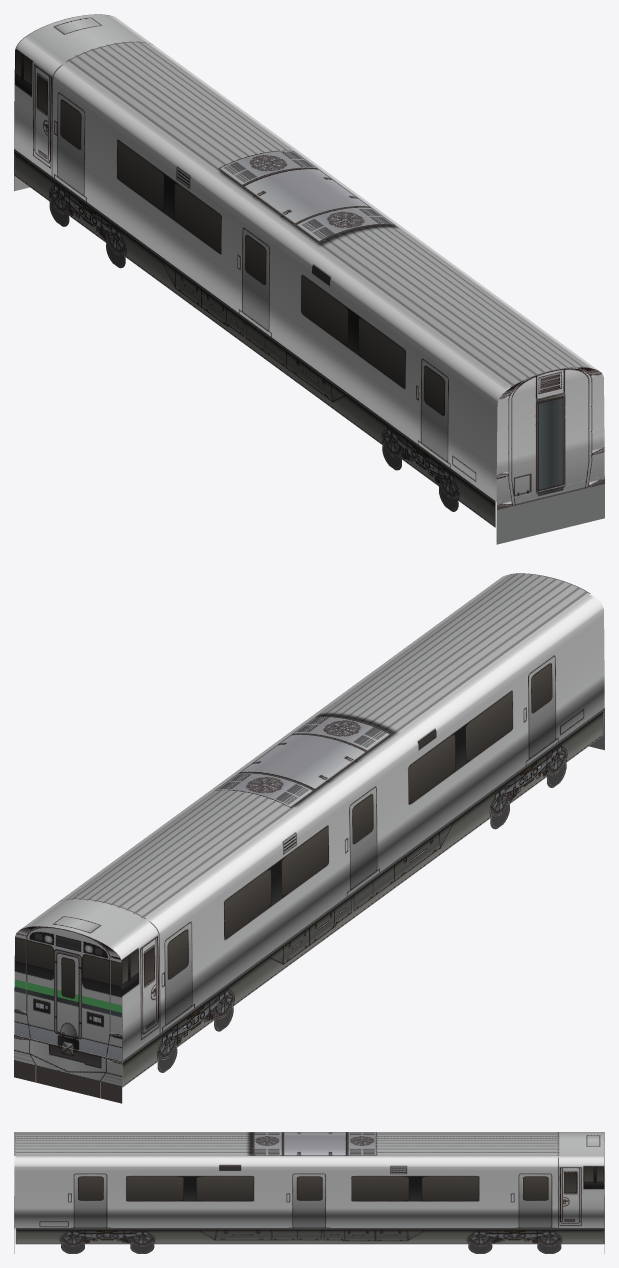
Rendered from car3.glb.
3 views of the same model, one above another, from view 1: azimuth 30°, elevation 25°; view 2: azimuth 150°, elevation 25°; view 3: azimuth 270°, elevation 25° (orthographic). The views are drawn at different scales.
Visible parts, largest first — view 1: jr-hokkaido-735-car3; view 2: jr-hokkaido-735-car3; view 3: jr-hokkaido-735-car3.
Part boxes in pixels (<box>): jr-hokkaido-735-car3: <box>14,14,604,544</box>; jr-hokkaido-735-car3: <box>14,573,604,1103</box>; jr-hokkaido-735-car3: <box>14,1132,604,1253</box>.
Size of the model in its own units: 2.8 by 3.96 by 21.7.
9 materials, 8 textured.
